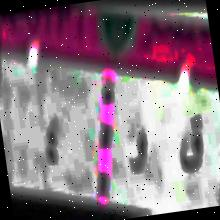4: (41, 116, 65, 176)
qaaf: (172, 110, 211, 188)
waw: (123, 126, 154, 182)
